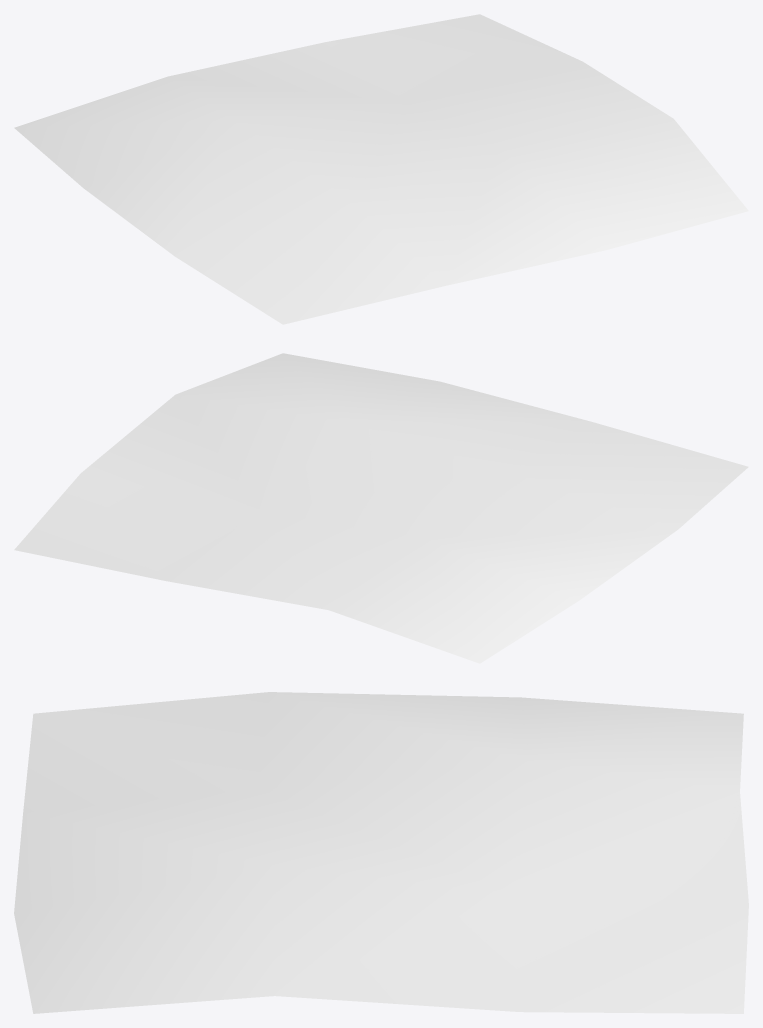
Rendered from SM_Env_Flowers_Flat_02.glb.
3 renders of one model, top to bottom at view 1: azimuth 30°, elevation 25°; view 2: azimuth 150°, elevation 25°; view 3: azimuth 270°, elevation 25°, orthographic. The views are drawn at different scales.
Parts seen in each view (by area): view 1: SM_Env_Flowers_Flat_02; view 2: SM_Env_Flowers_Flat_02; view 3: SM_Env_Flowers_Flat_02.
Boxes of the visible parts, bbox=[...] form: SM_Env_Flowers_Flat_02: bbox=[14, 14, 748, 324]; SM_Env_Flowers_Flat_02: bbox=[14, 353, 748, 663]; SM_Env_Flowers_Flat_02: bbox=[14, 692, 748, 1013].
Bounding box in the file's own units: 2.16 × 0.1452 × 2.07.
1 material, 1 textured.
